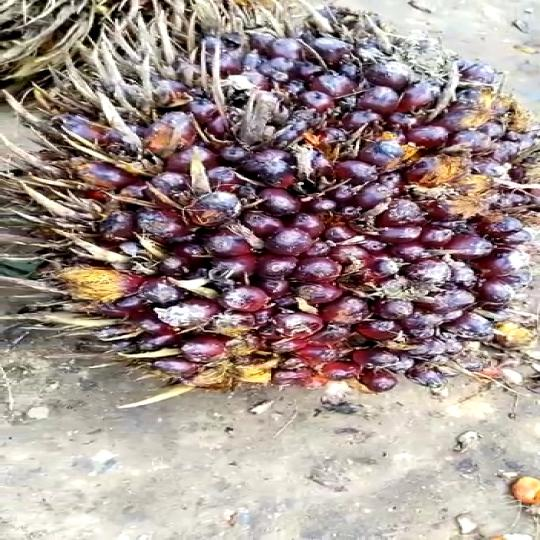masak: (22, 13, 540, 398)
